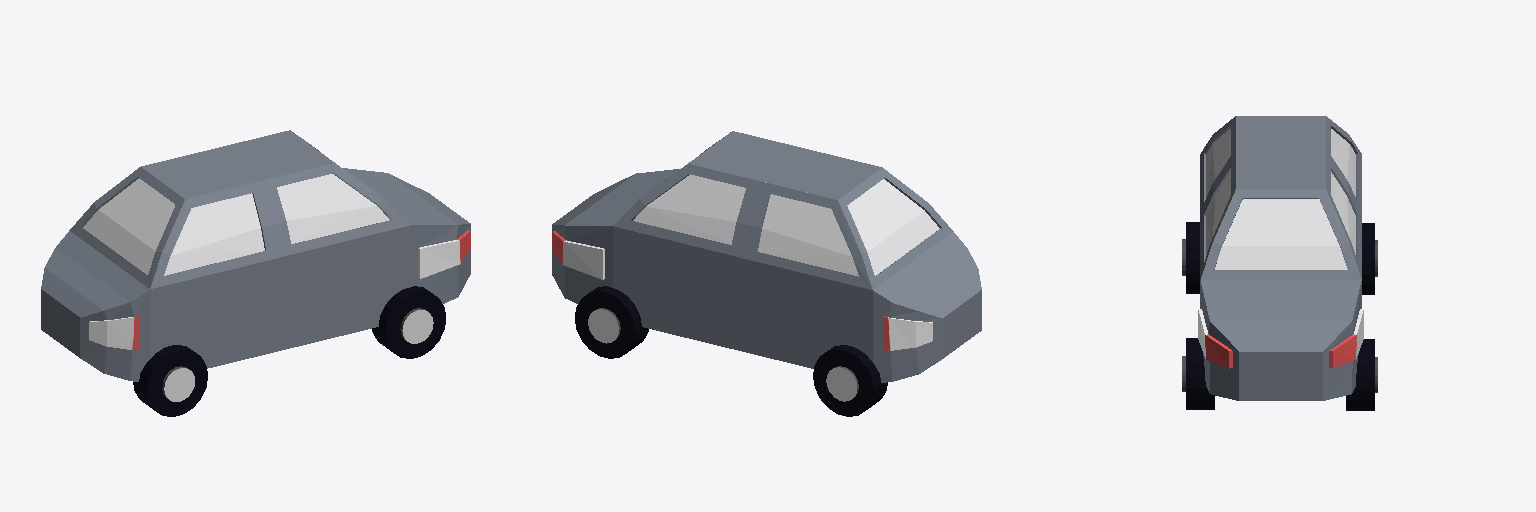
3 renders of one model, left to right at view 1: azimuth 30°, elevation 25°; view 2: azimuth 150°, elevation 25°; view 3: azimuth 270°, elevation 25°, orthographic.
Parts seen in each view (by area): view 1: Object149; view 2: Object149; view 3: Object149.
Part boxes in pixels (x1,y1,x2,y2): Object149: (41, 130, 470, 416); Object149: (552, 131, 981, 416); Object149: (1182, 116, 1377, 410).
Size of the model in its own units: 363 by 170 by 158.
1 materials, 1 textured.